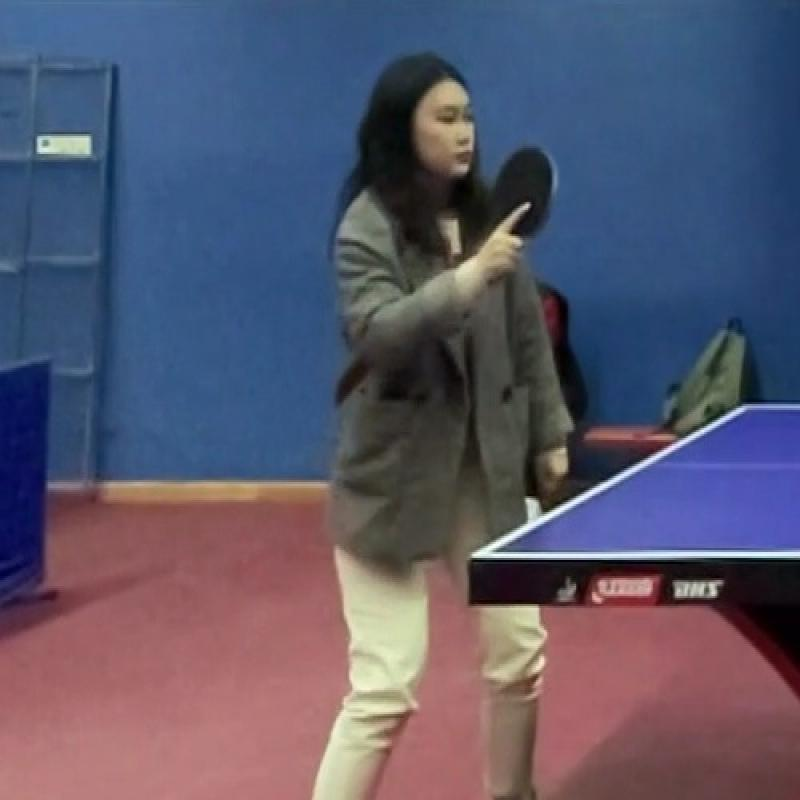bats: (471, 138, 575, 264)
